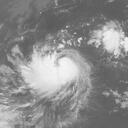cyclone: (20, 47, 90, 104), (97, 20, 127, 56)
